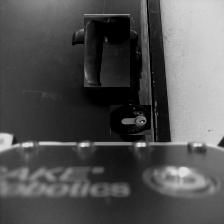Door Handle: (78, 21, 137, 81)
Lock: (112, 102, 148, 138)
